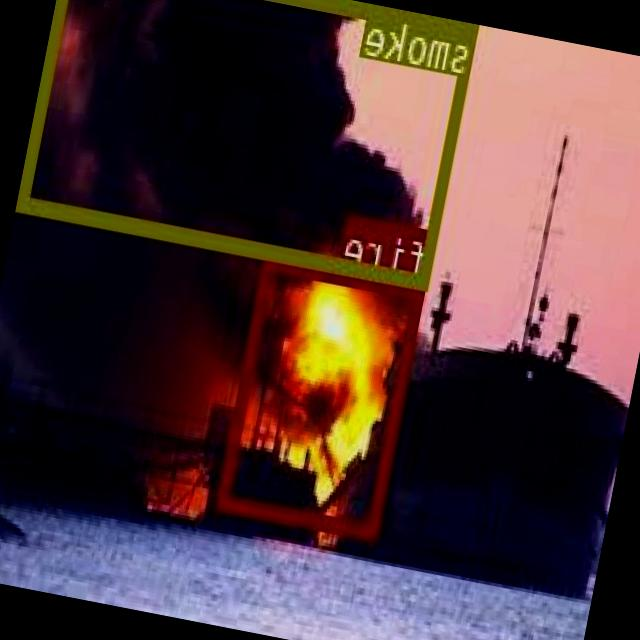fire: (219, 251, 428, 537)
smoke: (20, 0, 479, 286)
